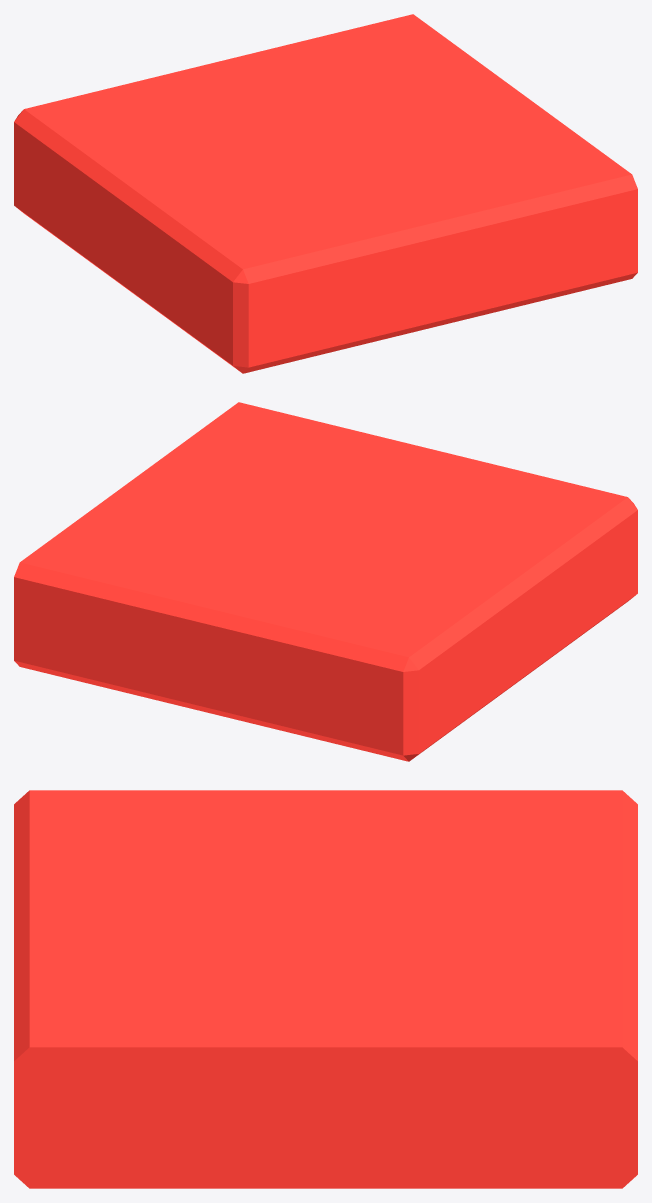
Rendered from Bridge_03.glb.
The picture shows the model from 3 angles, top to bottom: view 1: azimuth 30°, elevation 25°; view 2: azimuth 150°, elevation 25°; view 3: azimuth 270°, elevation 25°; orthographic projection. The views are drawn at different scales.
Visible parts, largest first — view 1: Bridge_03; view 2: Bridge_03; view 3: Bridge_03.
Boxes of the visible parts, x1=… form: Bridge_03: x1=14, y1=14, x2=637, y2=373; Bridge_03: x1=14, y1=402, x2=637, y2=761; Bridge_03: x1=14, y1=790, x2=637, y2=1188.
Size of the model in its own units: 4 by 1 by 4.
1 material, 1 textured.
